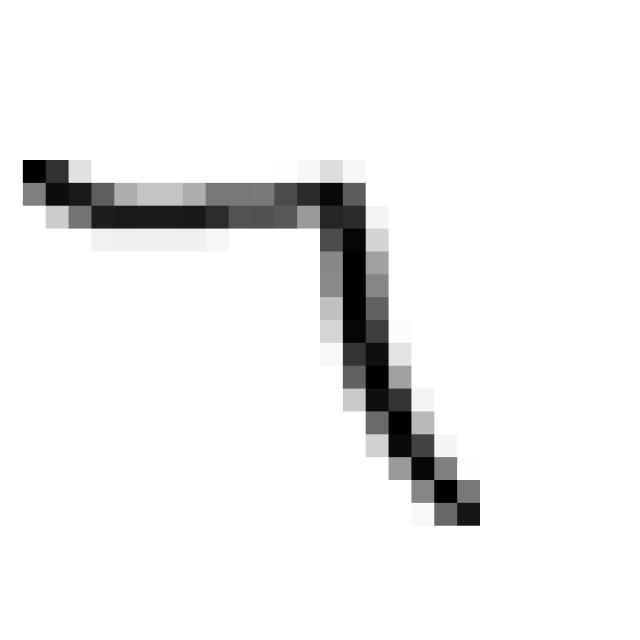6 -six-: (4, 140, 498, 546)
